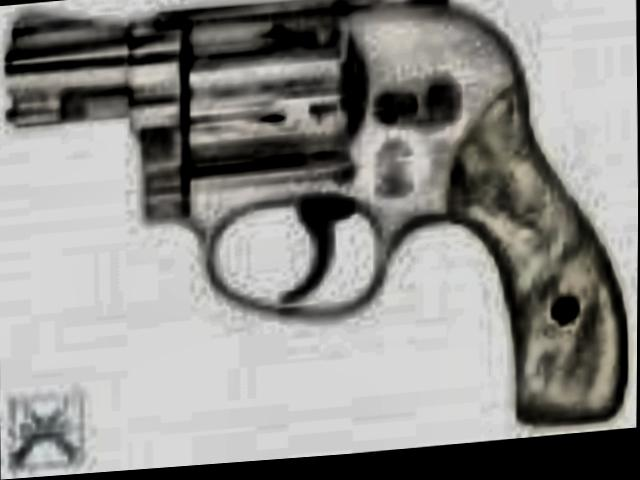pistol: (0, 0, 620, 473)
